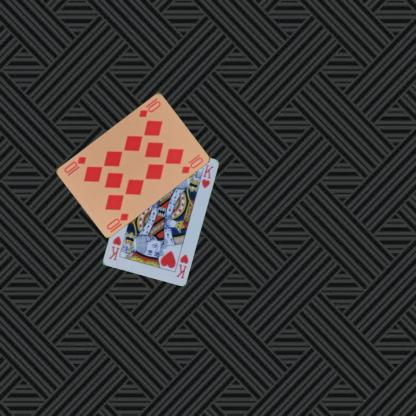10d: (136, 95, 162, 118), (103, 210, 130, 231)
Kh: (173, 251, 190, 280)
